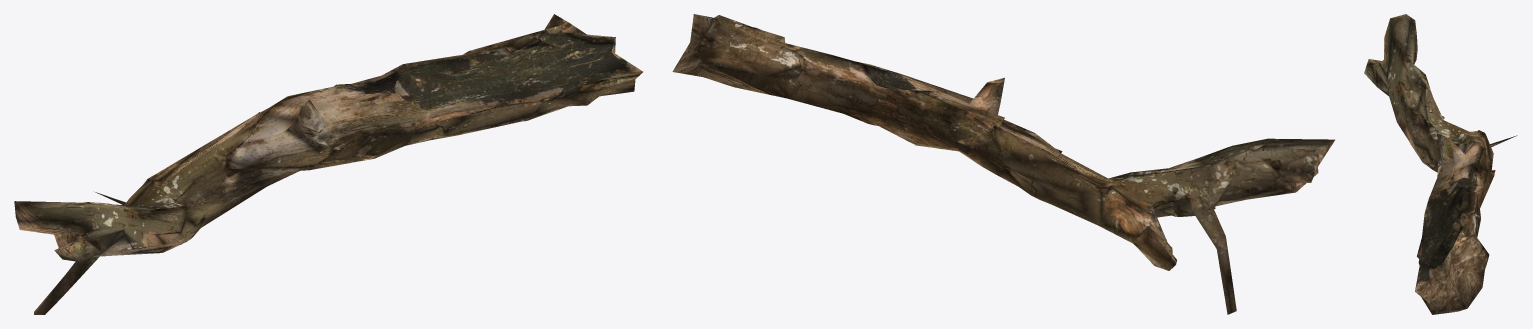
File: deadtree.glb
3 views of the same model, side by side, from view 1: azimuth 30°, elevation 25°; view 2: azimuth 150°, elevation 25°; view 3: azimuth 270°, elevation 25° (orthographic). The views are drawn at different scales.
Parts seen in each view (by area): view 1: dead_tree_trunk_02; view 2: dead_tree_trunk_02; view 3: dead_tree_trunk_02.
Boxes of the visible parts, x1,y1,x2,y2 form: dead_tree_trunk_02: (14,14,643,314); dead_tree_trunk_02: (672,14,1334,314); dead_tree_trunk_02: (1364,14,1517,314).
Bounding box in the file's own units: 4.02 × 1.04 × 1.04.
1 material, 1 textured.
